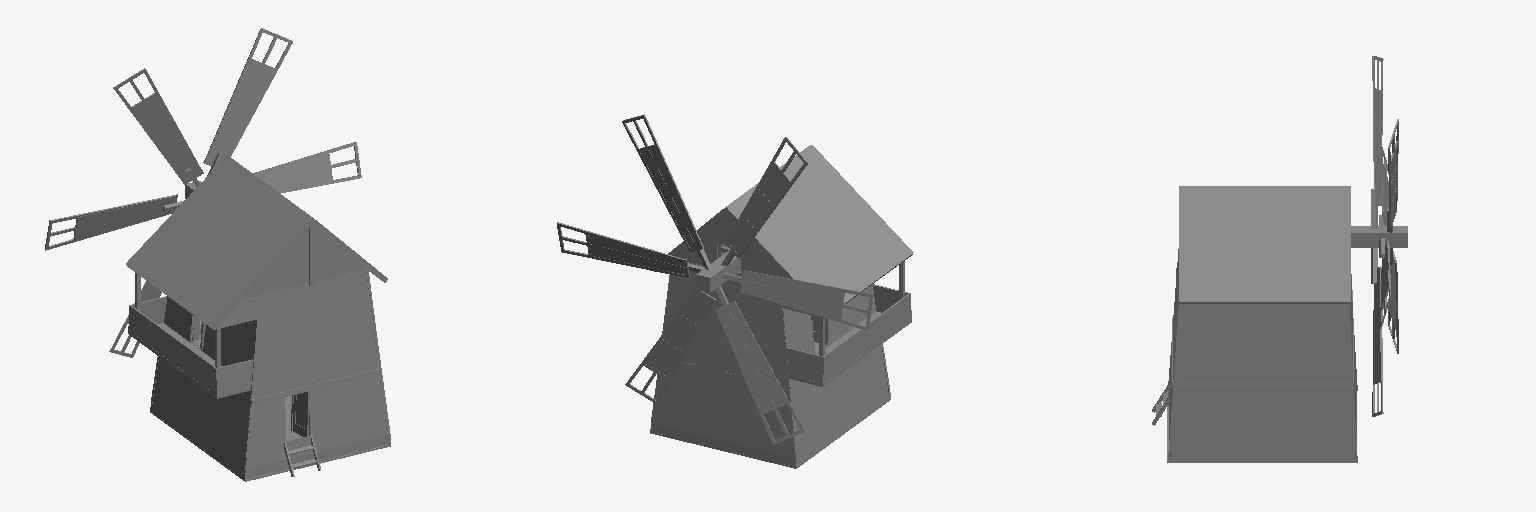
Rendered from moara.obj.
3 views of the same model, side by side, from view 1: azimuth 30°, elevation 25°; view 2: azimuth 150°, elevation 25°; view 3: azimuth 270°, elevation 25° (orthographic).
Visible parts, largest first — view 1: Usa_parter, Box41, Box32, Ax, Prism01, Box38, Box101, Box36, PivotDoor01, Box05, Box03, Box99 (+2 smaller); view 2: Box04, Box41, Box32, Ax, Box38, Ax01, Box137, Box101, Box37, Box05, Box36, Box153; view 3: Box06, Box42, Ax, Box12, Usa_parter, Box137.
Boxes of the visible parts, x1=… form: Usa_parter: x1=244, y1=268, x2=390, y2=478; Box41: x1=126, y1=156, x2=315, y2=329; Box32: x1=150, y1=295, x2=260, y2=479; Ax: x1=74, y1=59, x2=276, y2=352; Prism01: x1=243, y1=225, x2=365, y2=299; Box38: x1=129, y1=305, x2=215, y2=394; Box101: x1=254, y1=152, x2=332, y2=192; Box36: x1=215, y1=359, x2=253, y2=394; PivotDoor01: x1=291, y1=391, x2=310, y2=436; Box05: x1=128, y1=323, x2=250, y2=398; Box03: x1=251, y1=368, x2=381, y2=404; Box99: x1=214, y1=296, x2=259, y2=329; Box04: x1=651, y1=262, x2=796, y2=466; Box41: x1=723, y1=145, x2=913, y2=318; Box32: x1=783, y1=284, x2=890, y2=466; Ax: x1=640, y1=148, x2=840, y2=438; Box38: x1=824, y1=294, x2=910, y2=382; Ax01: x1=675, y1=214, x2=785, y2=277; Box137: x1=645, y1=292, x2=710, y2=377; Box101: x1=589, y1=235, x2=685, y2=274; Box37: x1=786, y1=347, x2=824, y2=383; Box05: x1=789, y1=311, x2=911, y2=386; Box36: x1=873, y1=284, x2=911, y2=318; Box153: x1=732, y1=302, x2=804, y2=431; Box06: x1=1168, y1=304, x2=1357, y2=462; Box42: x1=1179, y1=188, x2=1350, y2=303; Ax: x1=1351, y1=57, x2=1407, y2=338; Box12: x1=1174, y1=382, x2=1351, y2=386; Usa_parter: x1=1169, y1=255, x2=1179, y2=460; Box137: x1=1373, y1=267, x2=1380, y2=383.
Bounding box in the file's own units: 388 × 403 × 277.